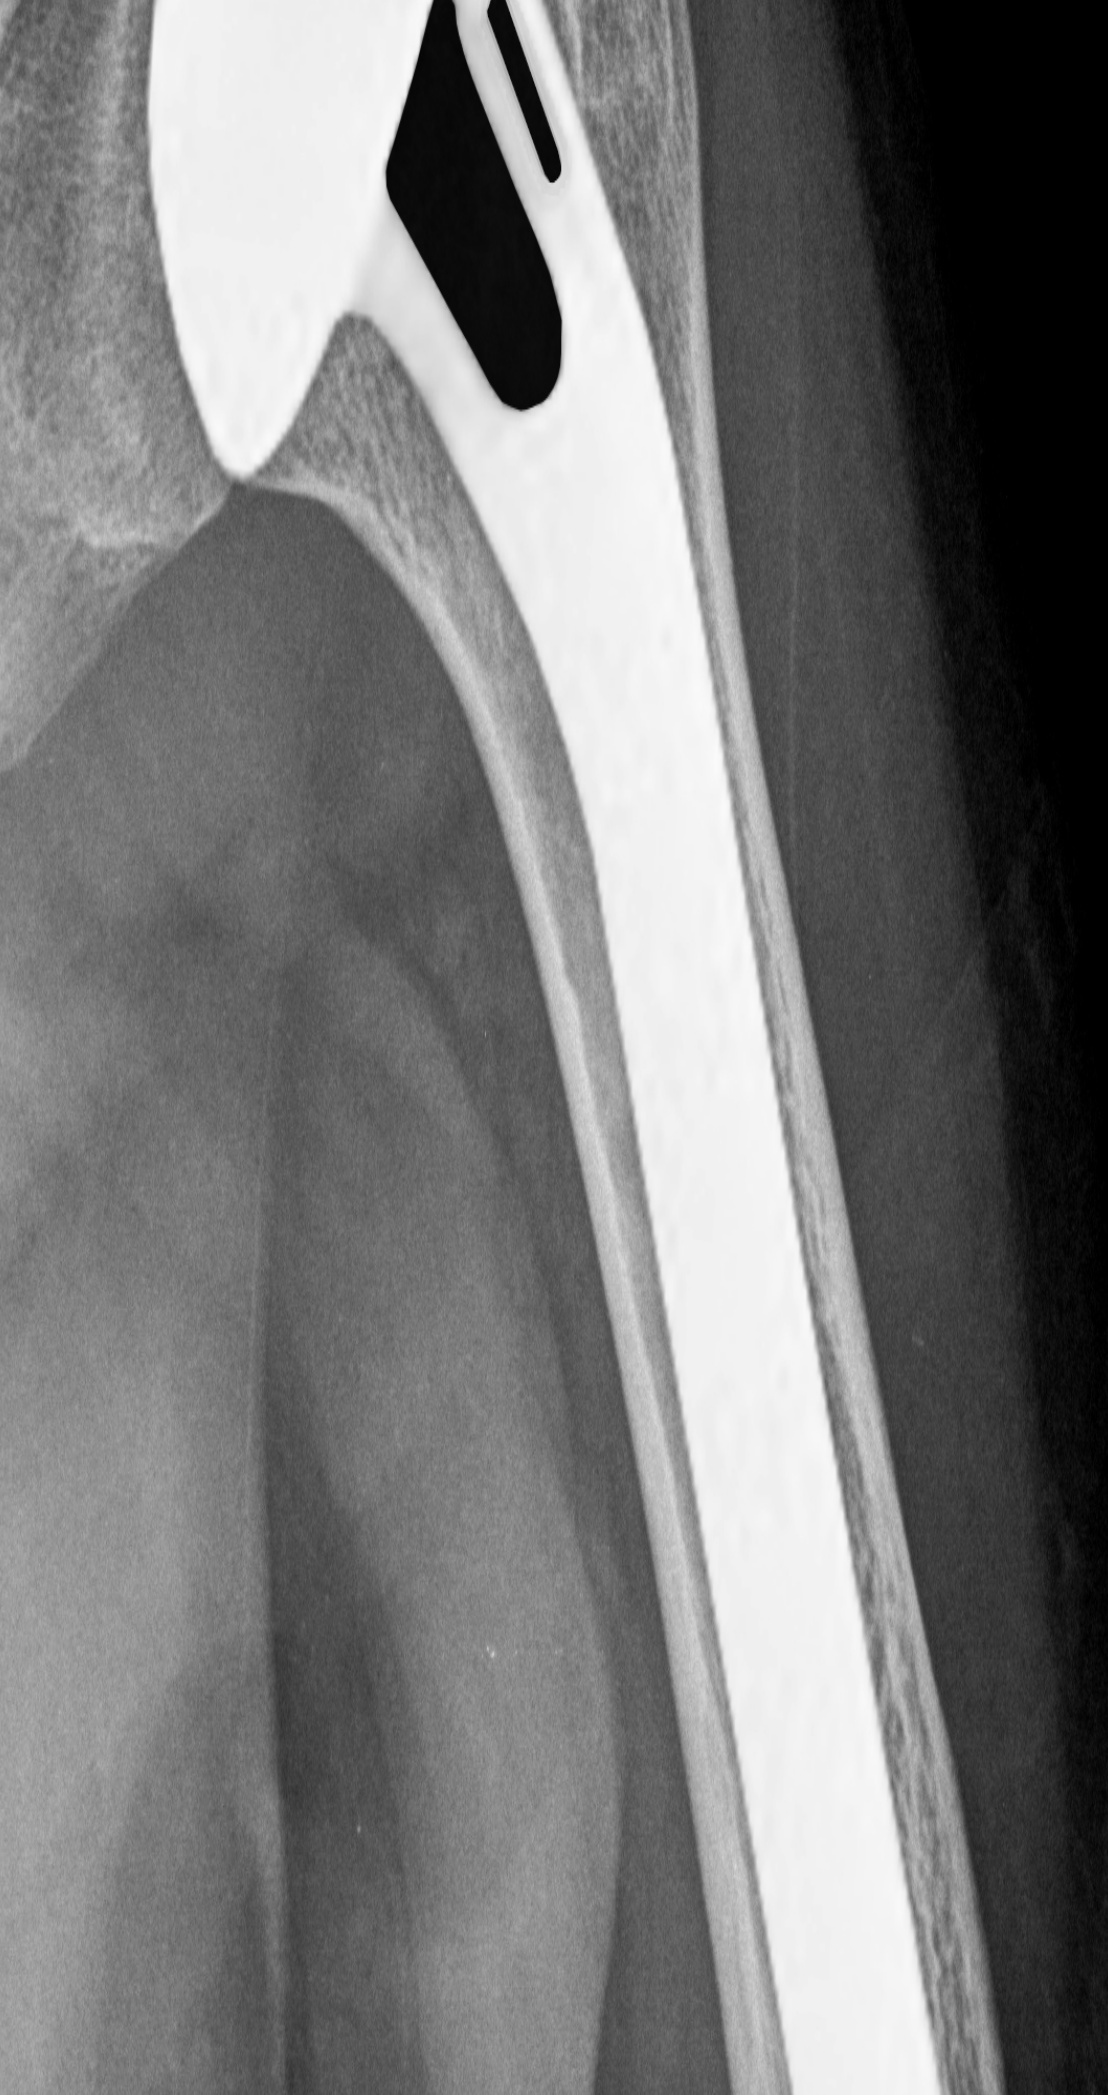Shoulder - AequalisFracture - Tornier: (114, 1, 645, 497)
